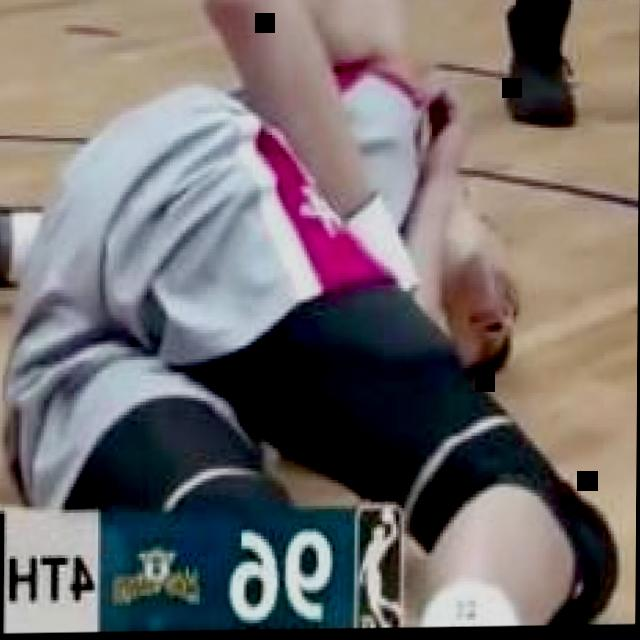Fall-Detected: (7, 0, 623, 620)
